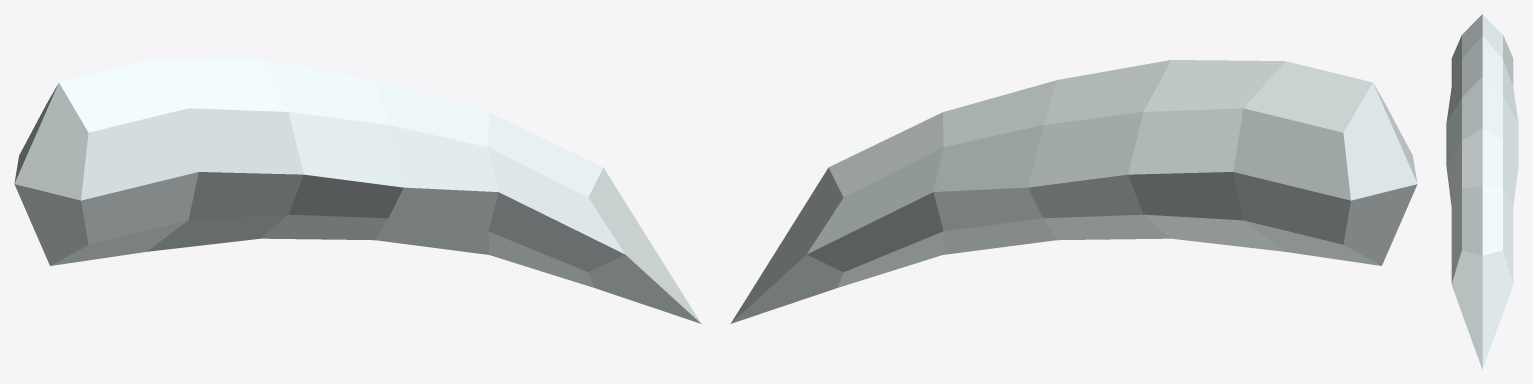
Rendered from swoop.obj.
3 renders of one model, left to right at view 1: azimuth 30°, elevation 25°; view 2: azimuth 150°, elevation 25°; view 3: azimuth 270°, elevation 25°, orthographic. The views are drawn at different scales.
Parts seen in each view (by area): view 1: cuboid; view 2: cuboid; view 3: cuboid.
Part boxes in pixels (<box>): cuboid: <box>14,60,701,323</box>; cuboid: <box>730,60,1417,323</box>; cuboid: <box>1446,14,1518,369</box>.
Bounding box in the file's own units: 1.2 × 0.6665 × 0.2188.
Materials: 1 (1 with a texture image).
